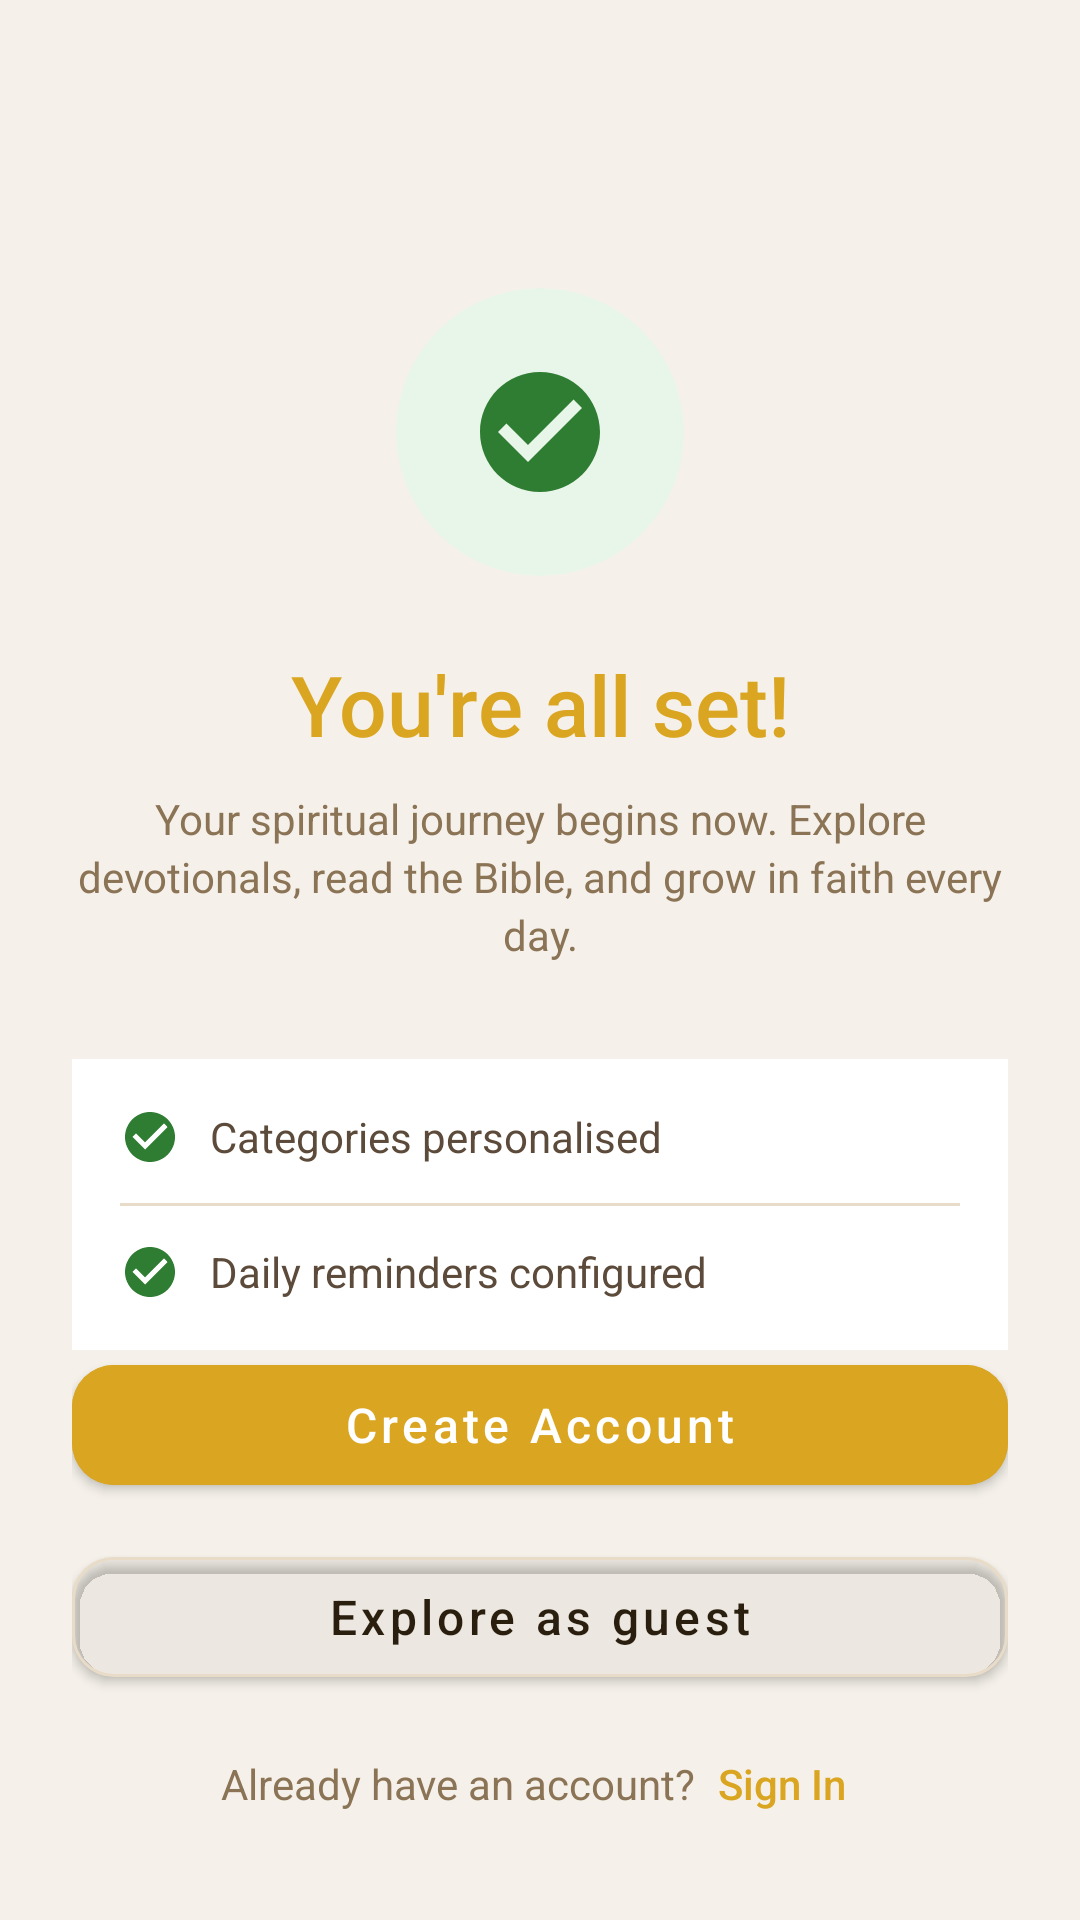

Named icons in this screenshot (1080 × 1920) and their bounding boxes, (left=x1, top=y1, right=x2, bottom=y2):
check circle: (left=480, top=372, right=600, bottom=492), (left=125, top=1112, right=175, bottom=1162), (left=125, top=1247, right=175, bottom=1297)
